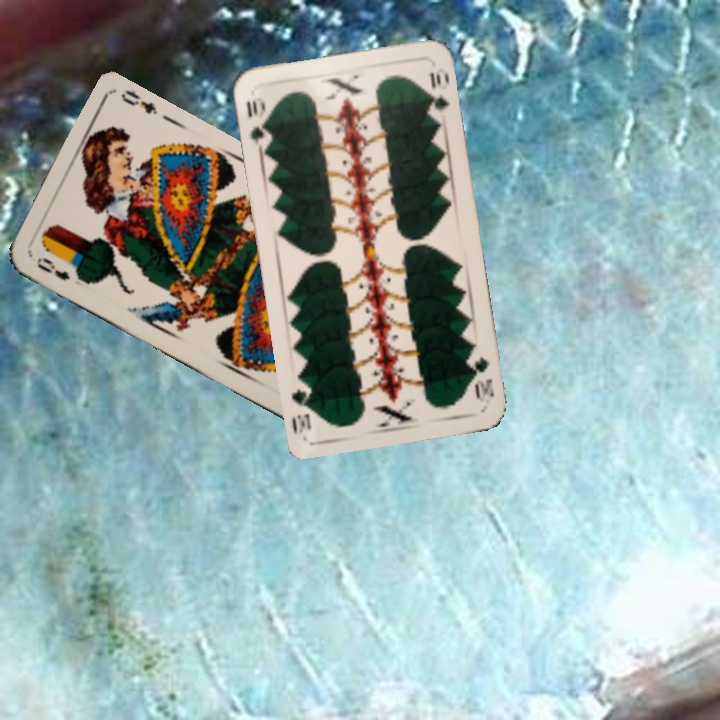EO: (32, 252, 73, 284)
G10: (242, 96, 271, 149), (468, 352, 497, 405)
